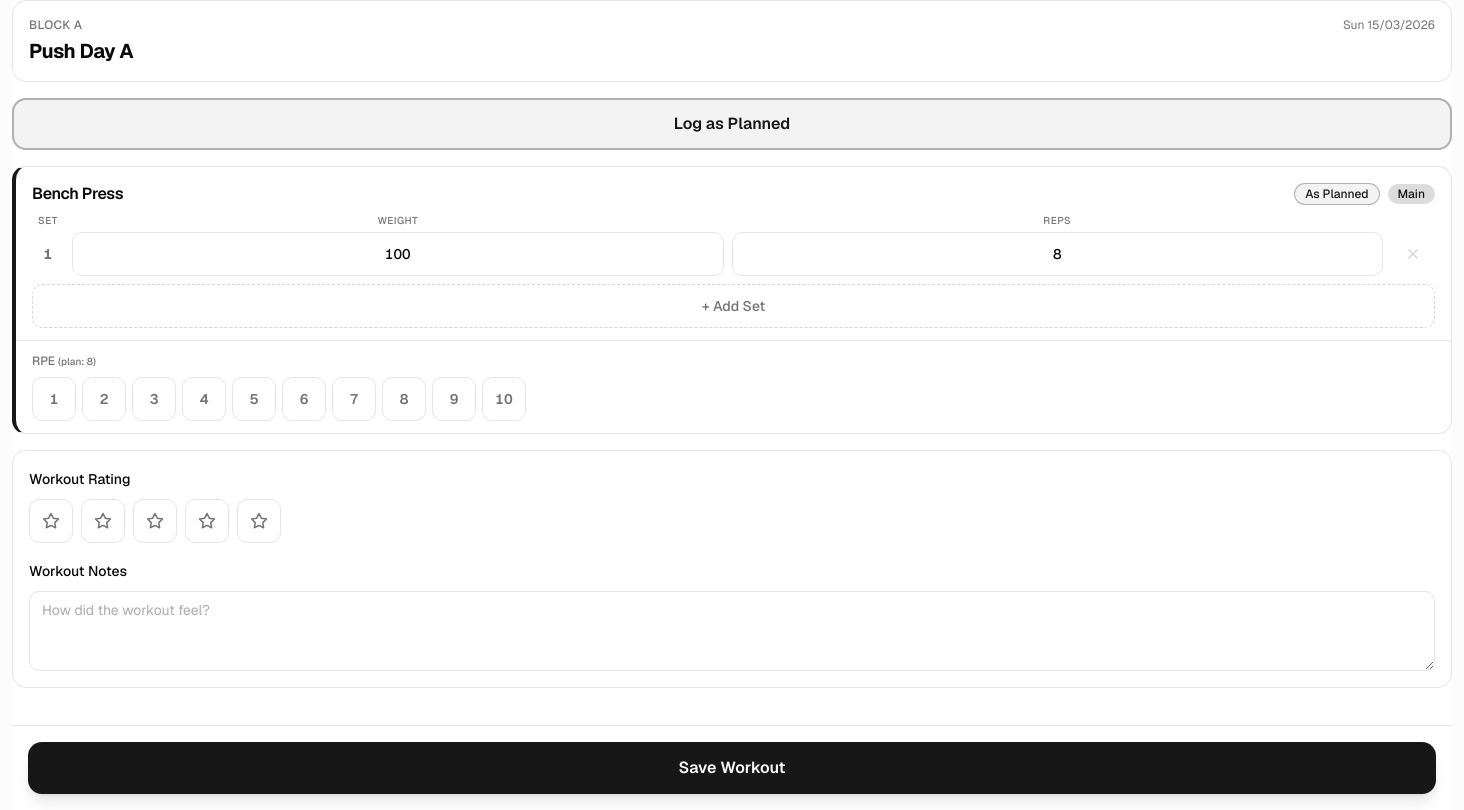
WorkoutLoggingForm › add set › copies weight and reps from last row
Clear and type new values (inputs are autofilled from planned data)
Clear the field with test id "weight-input-0-0" at (398, 254), box [72, 232, 724, 276]
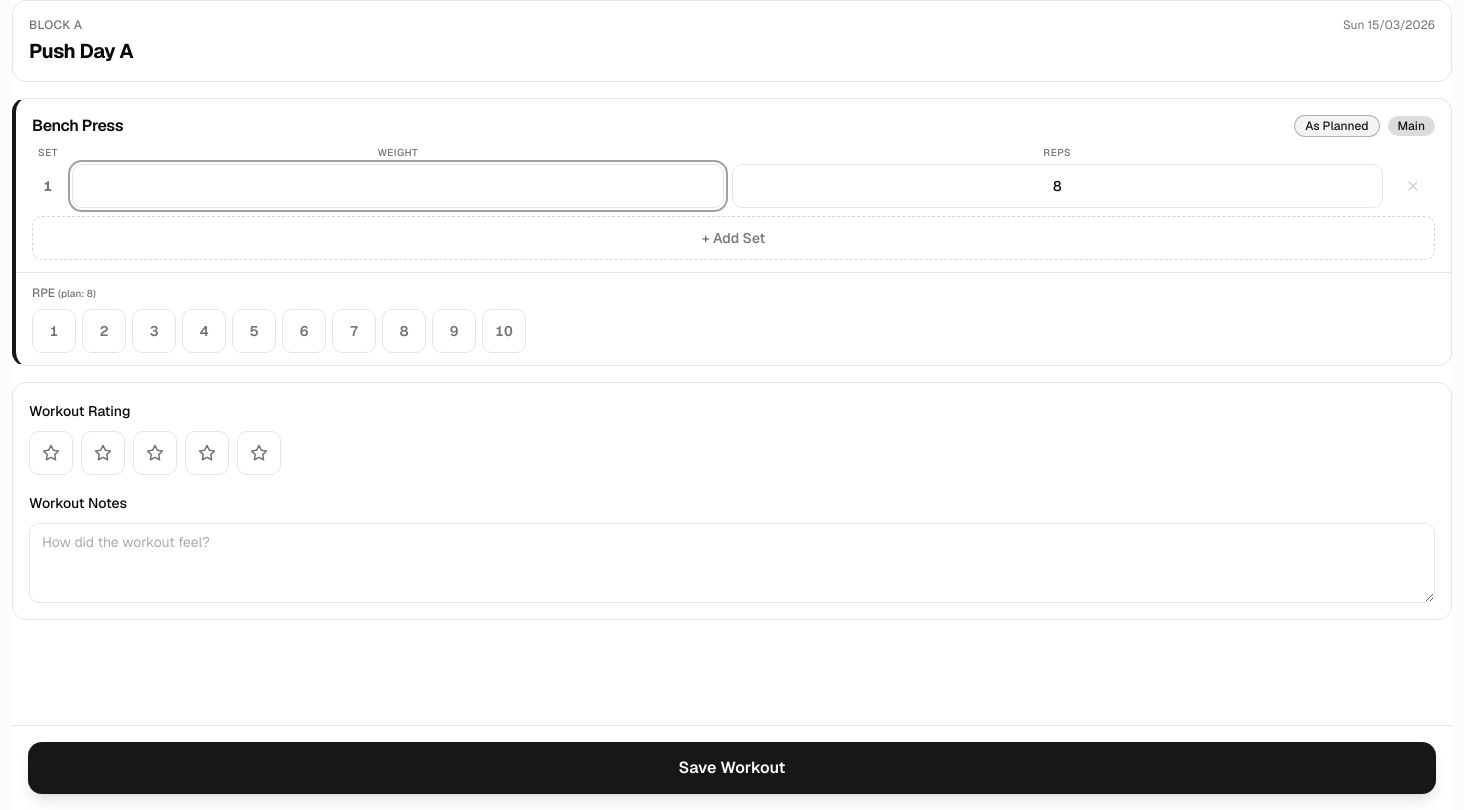
Type "105" into the field with test id "weight-input-0-0".
click(398, 186); type("105")  # box [72, 164, 724, 208]
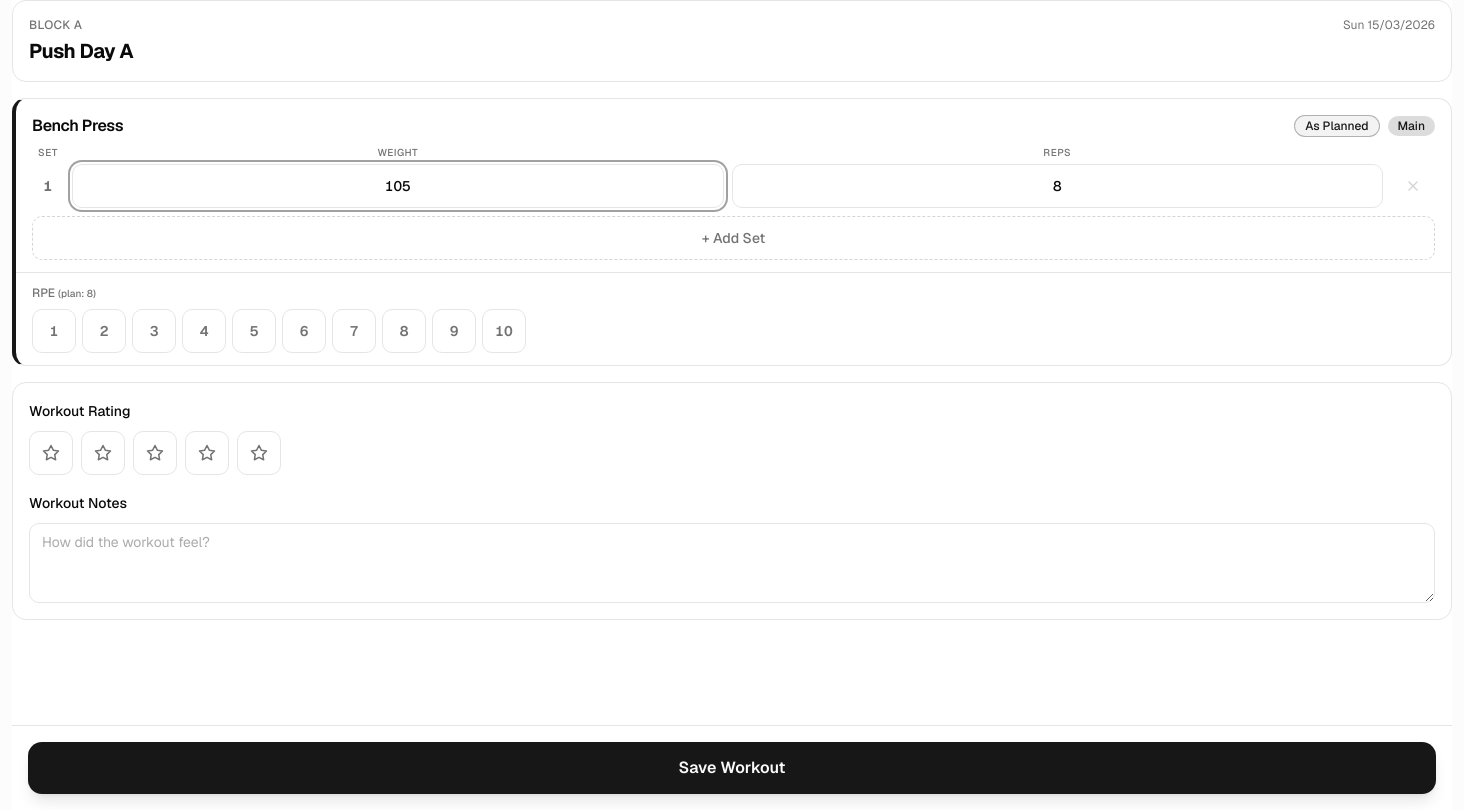
Replace the text in the field with test id "reps-input-0-0" with "10" at (1057, 186), box [732, 164, 1383, 208]
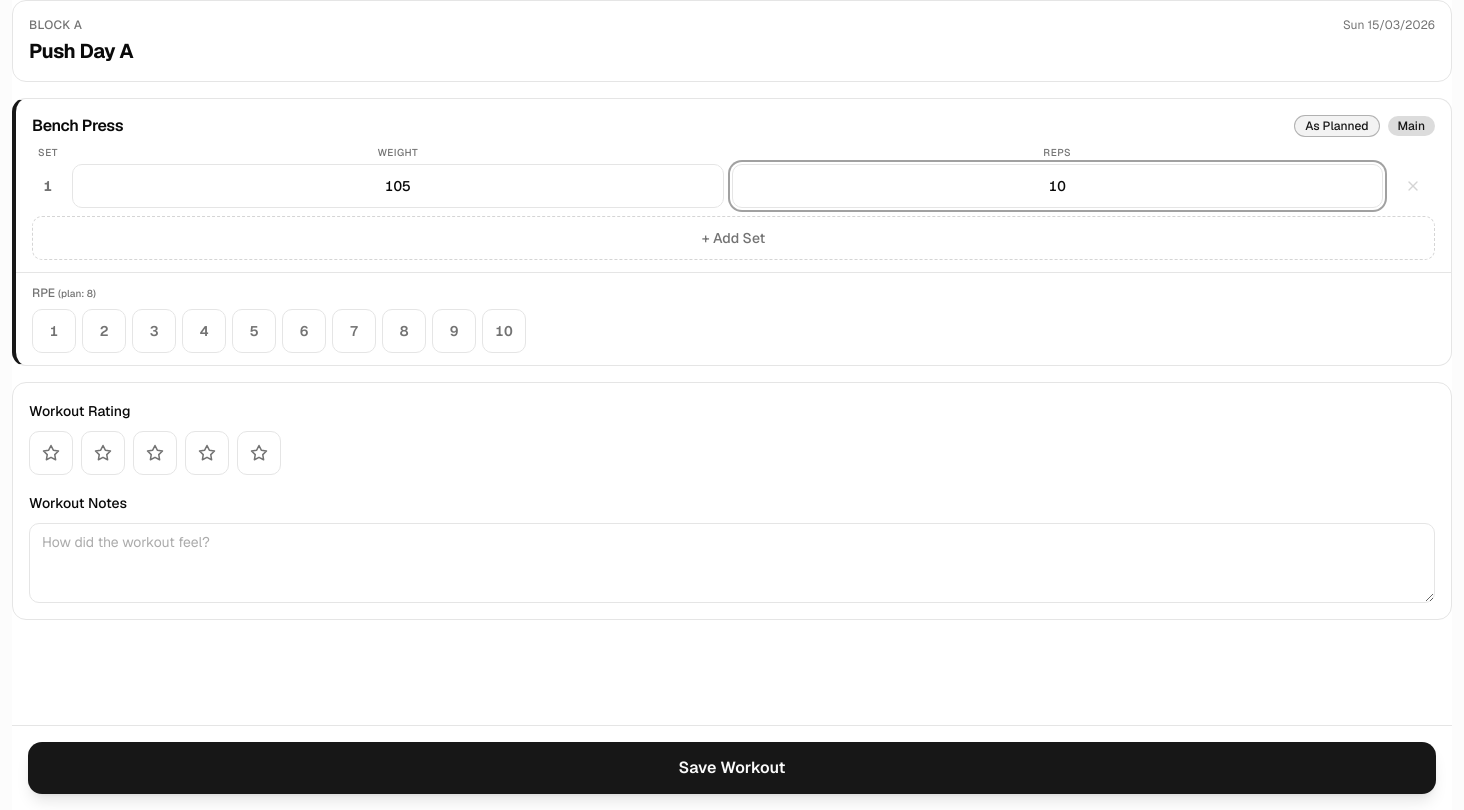
Click the button "+ Add Set".
click(734, 238)  # box [32, 216, 1435, 260]
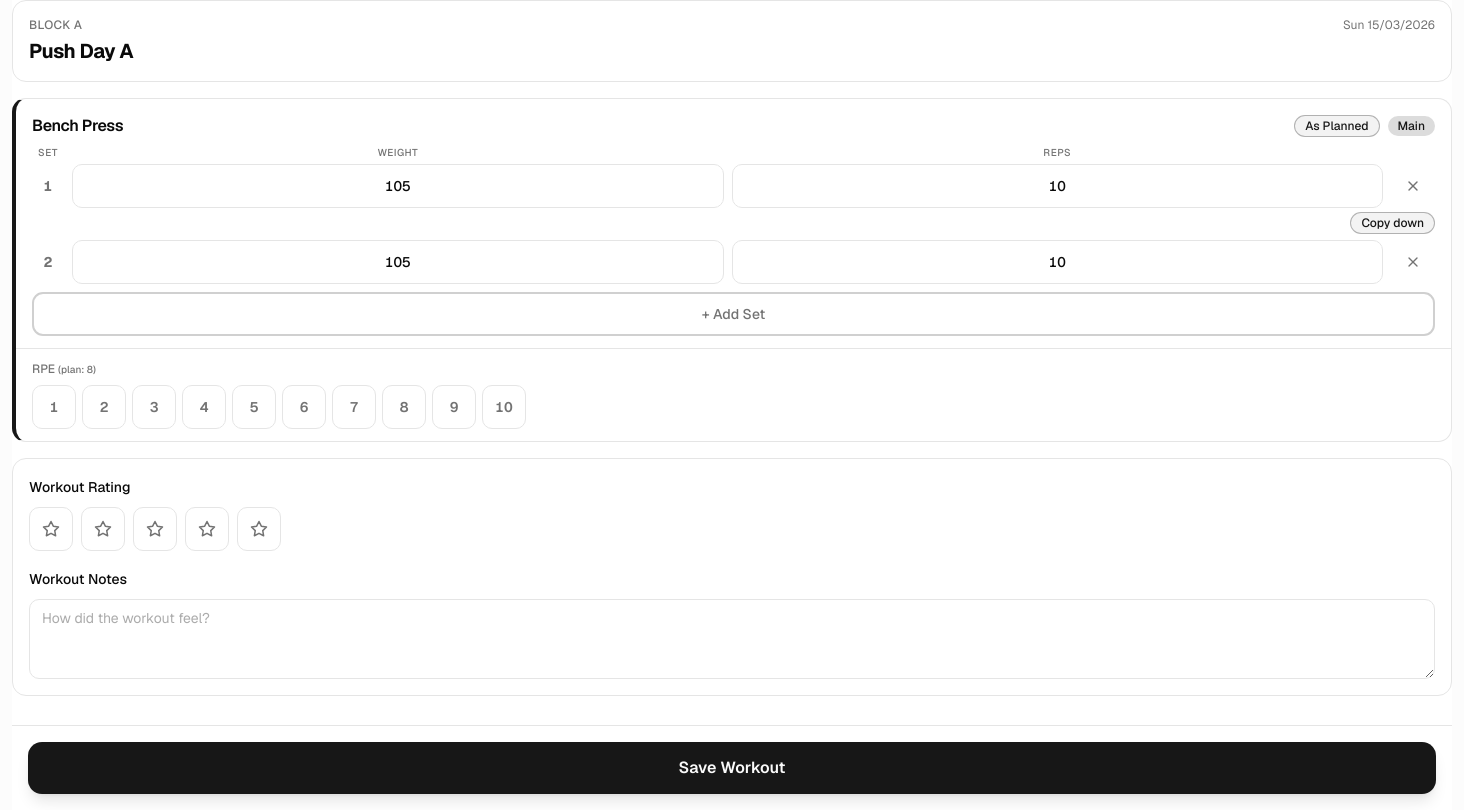
expect the field with test id "weight-input-0-1" holds "105": met, box [72, 240, 724, 284]
expect the field with test id "reps-input-0-1" holds "10": met, box [732, 240, 1383, 284]
